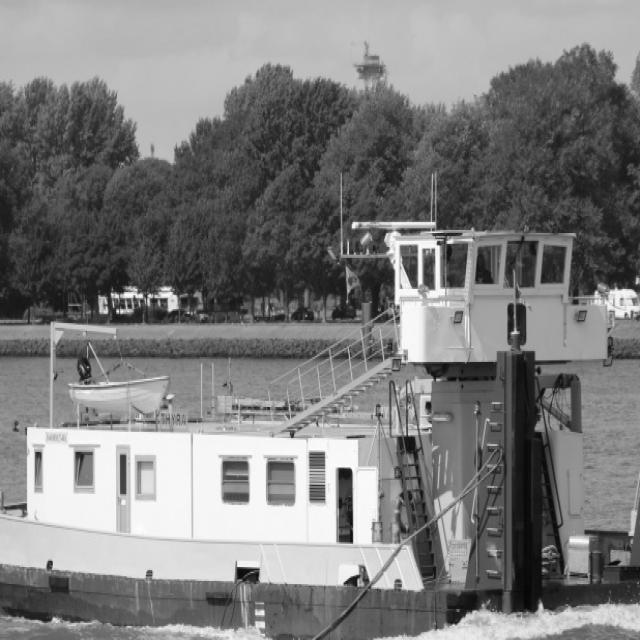tugboat: (1, 214, 640, 640)
